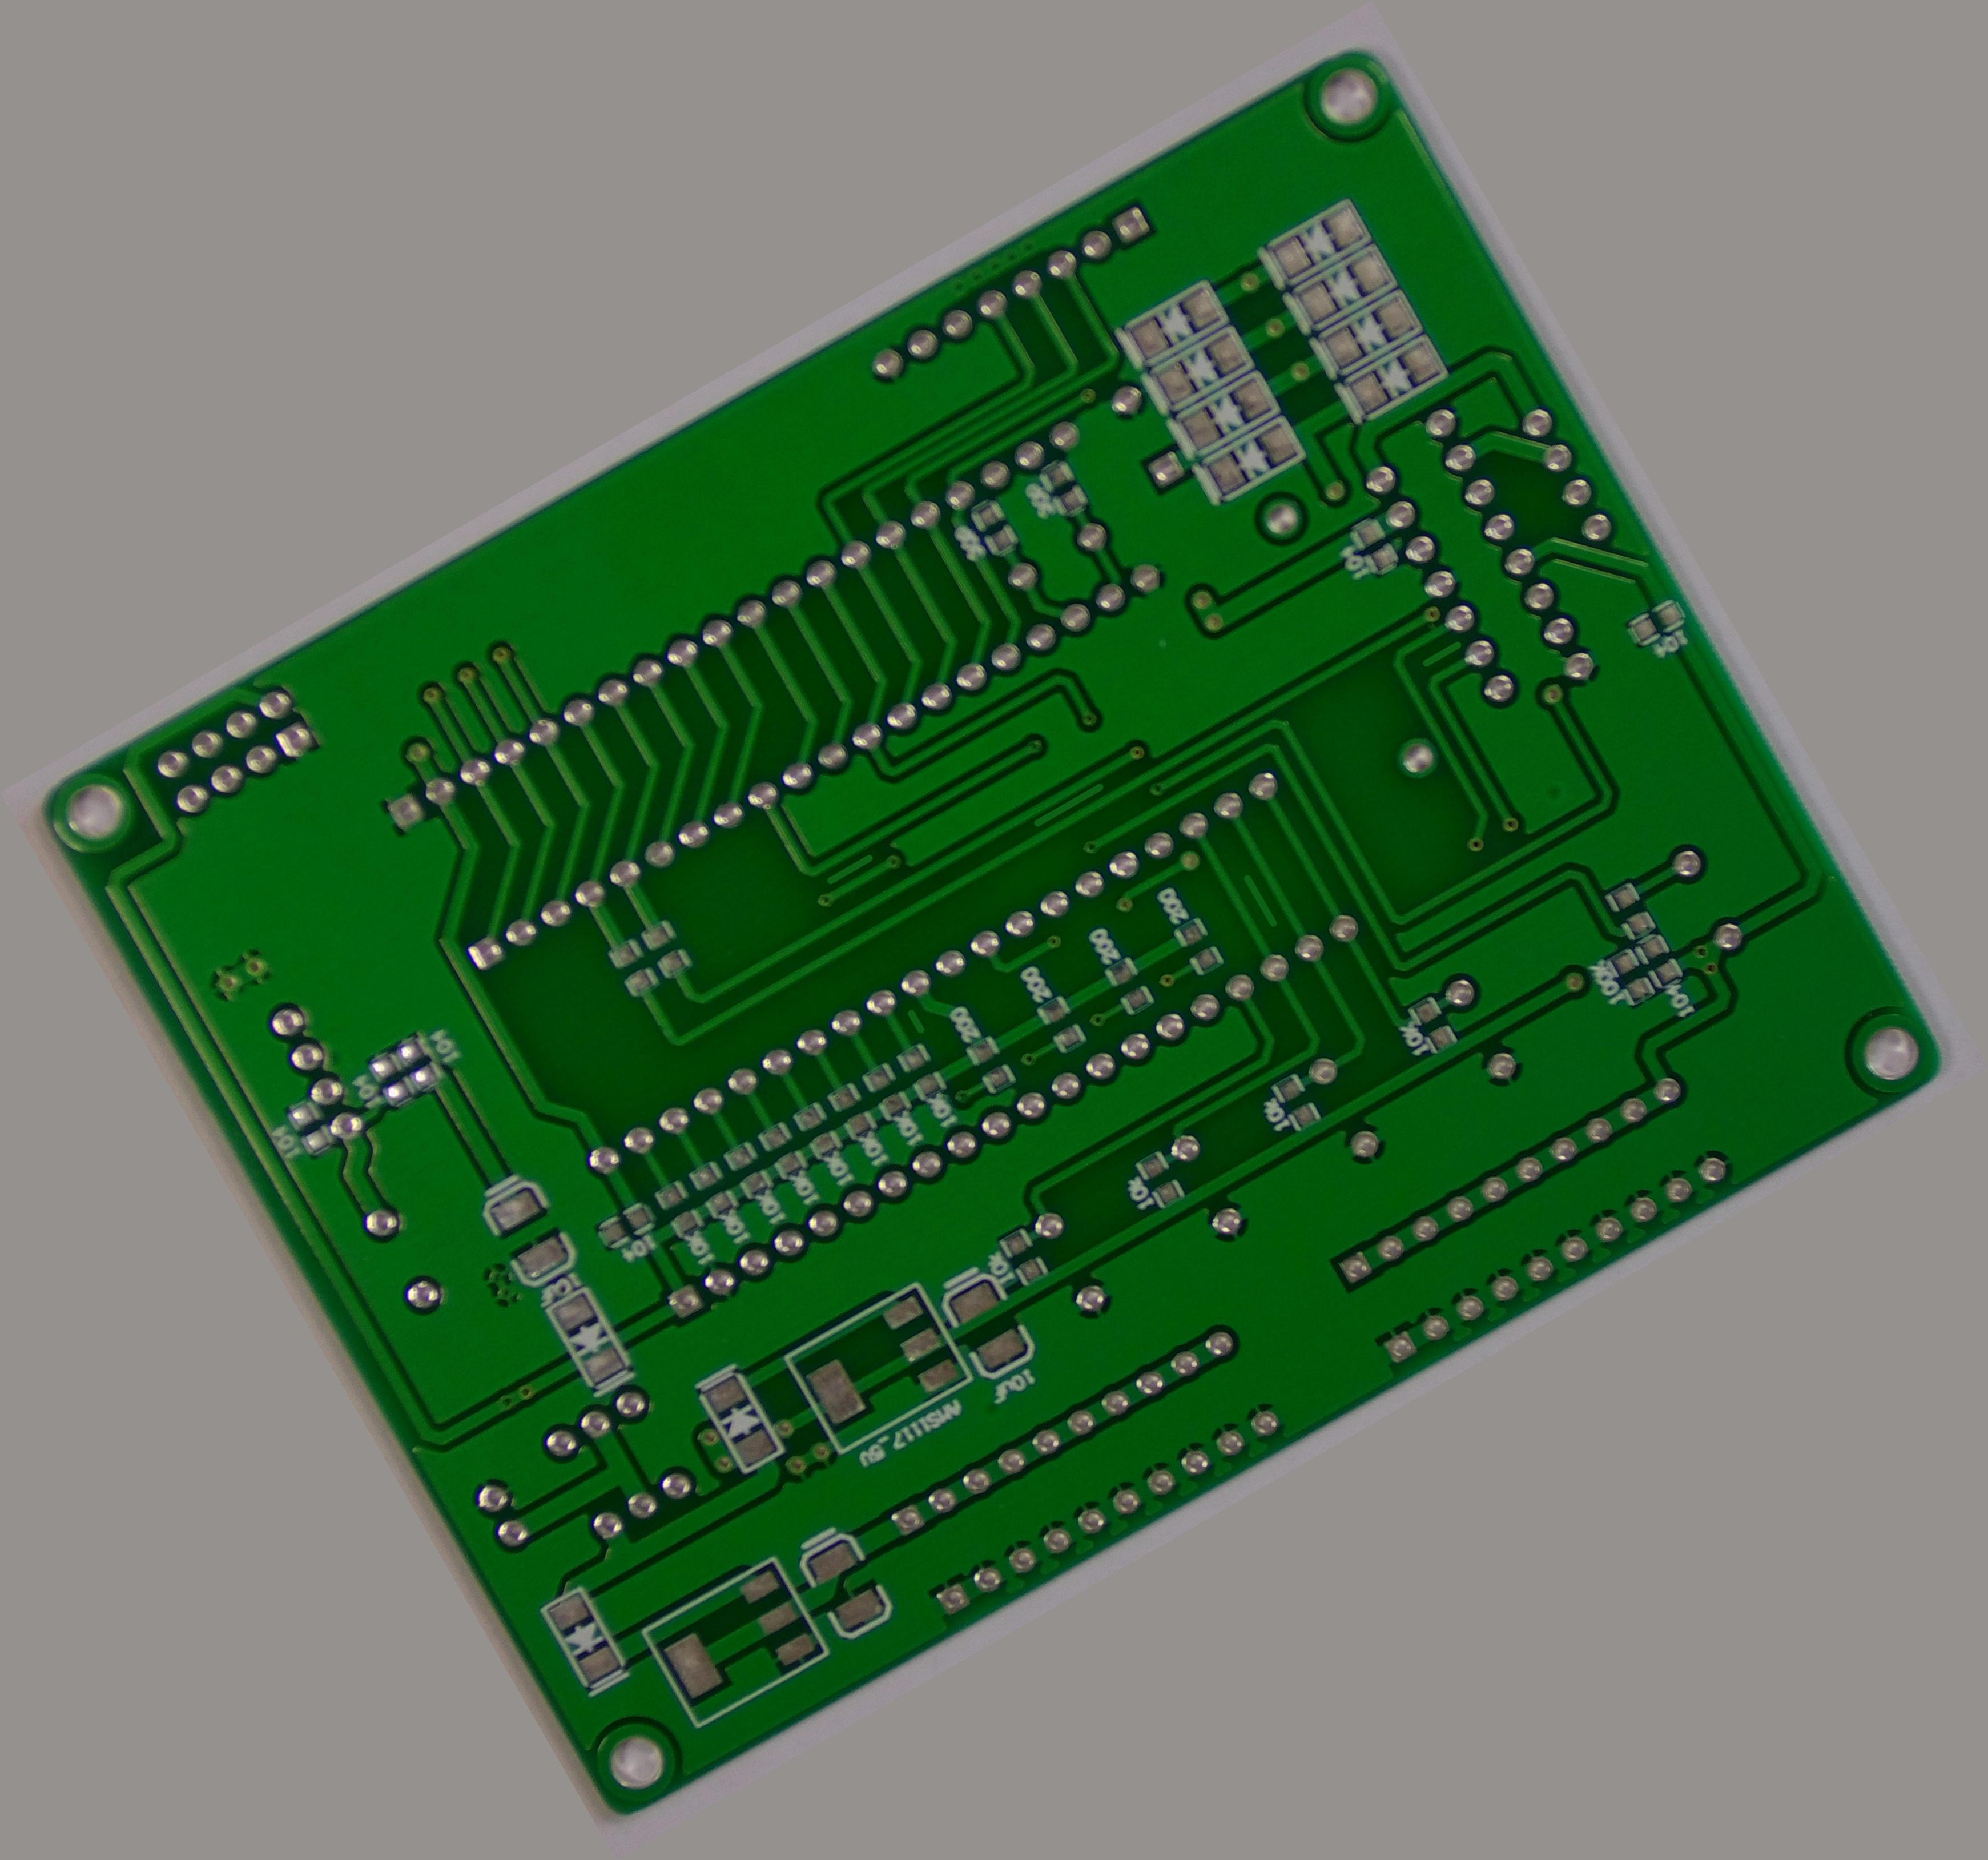spurious_copper: (1015, 764, 1120, 848), (809, 832, 893, 902), (1225, 860, 1293, 939), (1408, 624, 1478, 685), (891, 995, 936, 1044)
